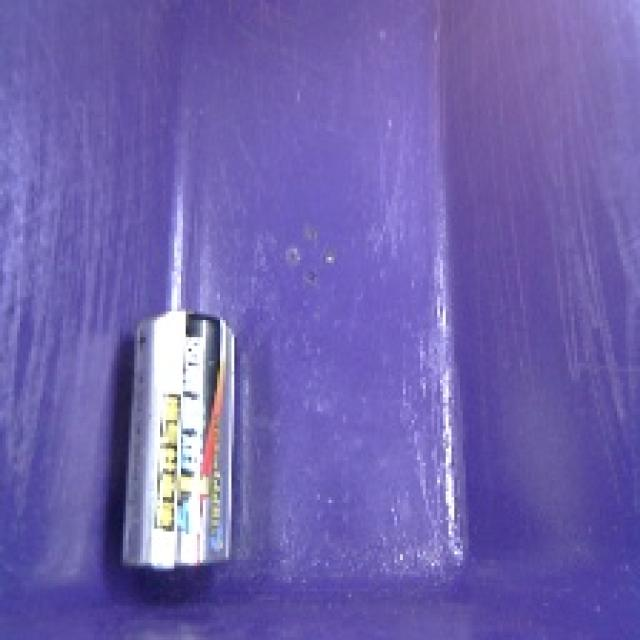battery: (110, 297, 251, 579)
